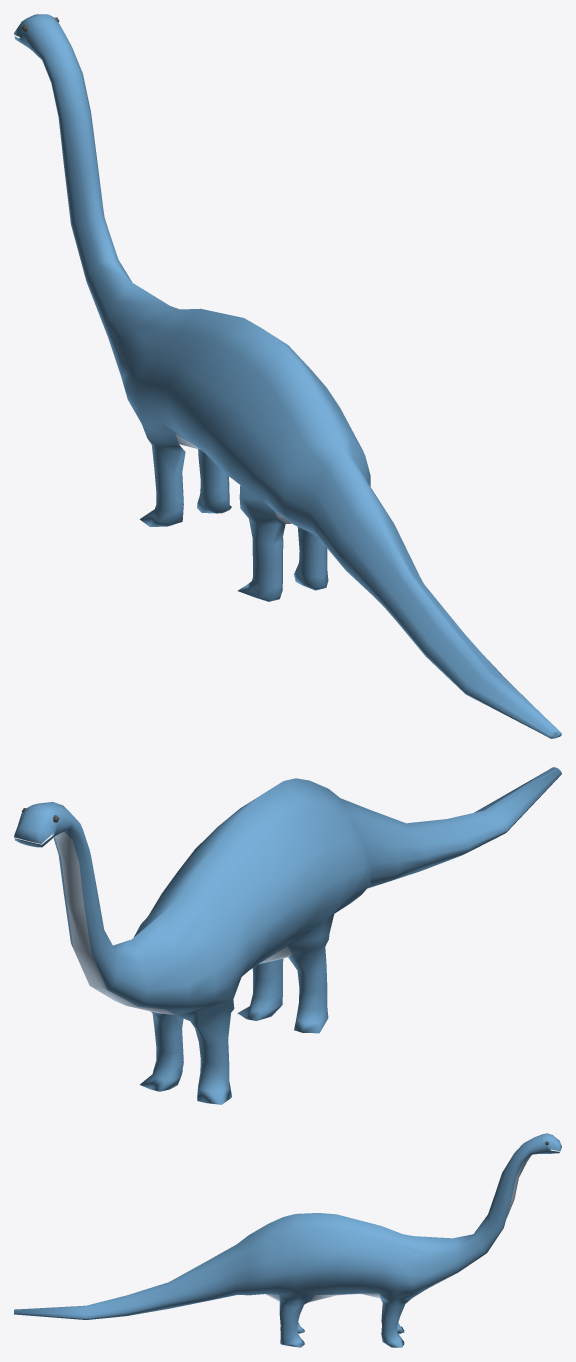
The model's file is f5AfWX7Fyeb.glb.
3 renders of one model, top to bottom at view 1: azimuth 30°, elevation 25°; view 2: azimuth 150°, elevation 25°; view 3: azimuth 270°, elevation 25°, orthographic. The views are drawn at different scales.
Visible parts, largest first — view 1: Symmetry.1; view 2: Symmetry.1; view 3: Symmetry.1.
Boxes of the visible parts, x1,y1,x2,y2 form: Symmetry.1: (14,14,561,738); Symmetry.1: (14,767,561,1104); Symmetry.1: (14,1133,561,1347).
Bounding box in the file's own units: 0.3114 × 1 × 2.45.
